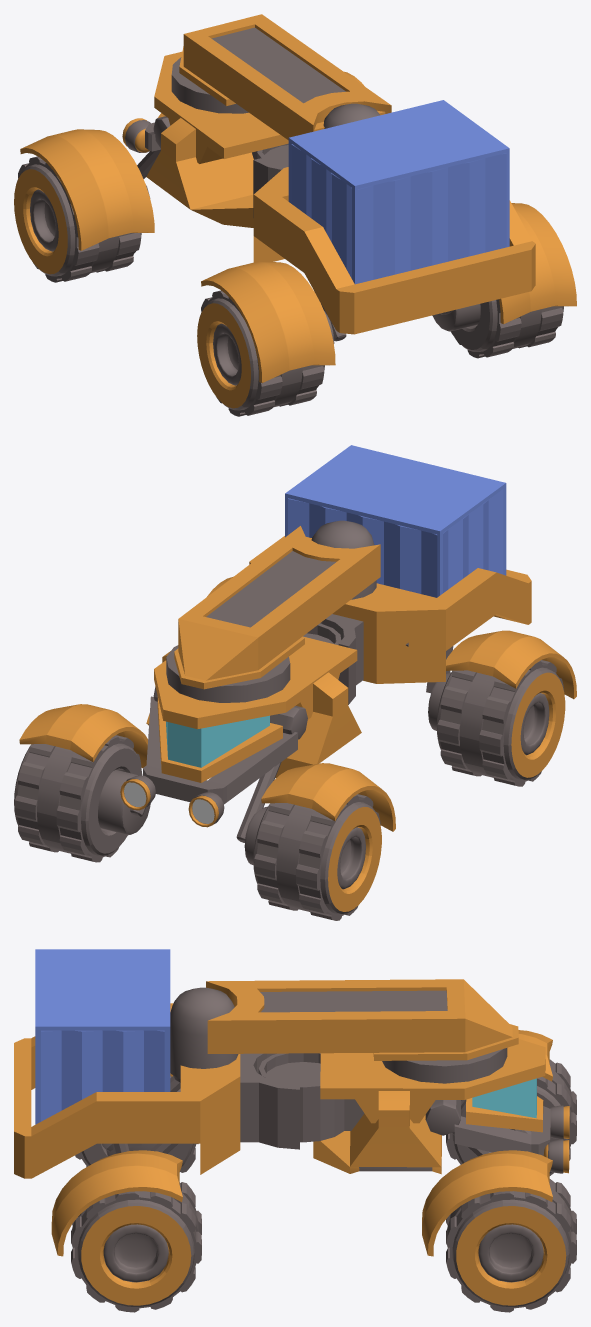
The model's file is Rover.fbx.
The picture shows the model from 3 angles, top to bottom: view 1: azimuth 30°, elevation 25°; view 2: azimuth 150°, elevation 25°; view 3: azimuth 270°, elevation 25°; orthographic projection. The views are drawn at different scales.
Visible parts, largest first — view 1: Cylinder.020, Cylinder.012, Cube.111, Cube.110, Cube.107, Cube.109; view 2: Cylinder.020, Cylinder.012, Cube.111, Cube.107, Cube.110, Cube.069; view 3: Cylinder.020, Cylinder.012, Cube.111, Cube.069, Cube.109, Cube.107, Cube.110.
Boxes of the visible parts, left/top/right/bottom form: Cylinder.020: left=201, top=100, right=576, bottom=382; Cylinder.012: left=20, top=51, right=364, bottom=250; Cube.111: left=171, top=14, right=391, bottom=140; Cube.110: left=197, top=290, right=334, bottom=416; Cube.107: left=14, top=156, right=150, bottom=282; Cube.109: left=432, top=299, right=563, bottom=358; Cylinder.020: left=207, top=445, right=576, bottom=704; Cylinder.012: left=19, top=623, right=395, bottom=842; Cube.111: left=166, top=520, right=380, bottom=702; Cube.107: left=244, top=794, right=381, bottom=920; Cube.110: left=428, top=660, right=565, bottom=786; Cube.069: left=14, top=735, right=150, bottom=862; Cylinder.020: left=14, top=949, right=299, bottom=1256; Cylinder.012: left=258, top=1030, right=569, bottom=1256; Cube.111: left=170, top=979, right=518, bottom=1083; Cube.069: left=446, top=1179, right=576, bottom=1312; Cube.109: left=71, top=1182, right=201, bottom=1312; Cube.107: left=446, top=1059, right=576, bottom=1175; Cube.110: left=75, top=1076, right=198, bottom=1172.
Bounding box in the file's own units: 782 × 580 × 1183.
